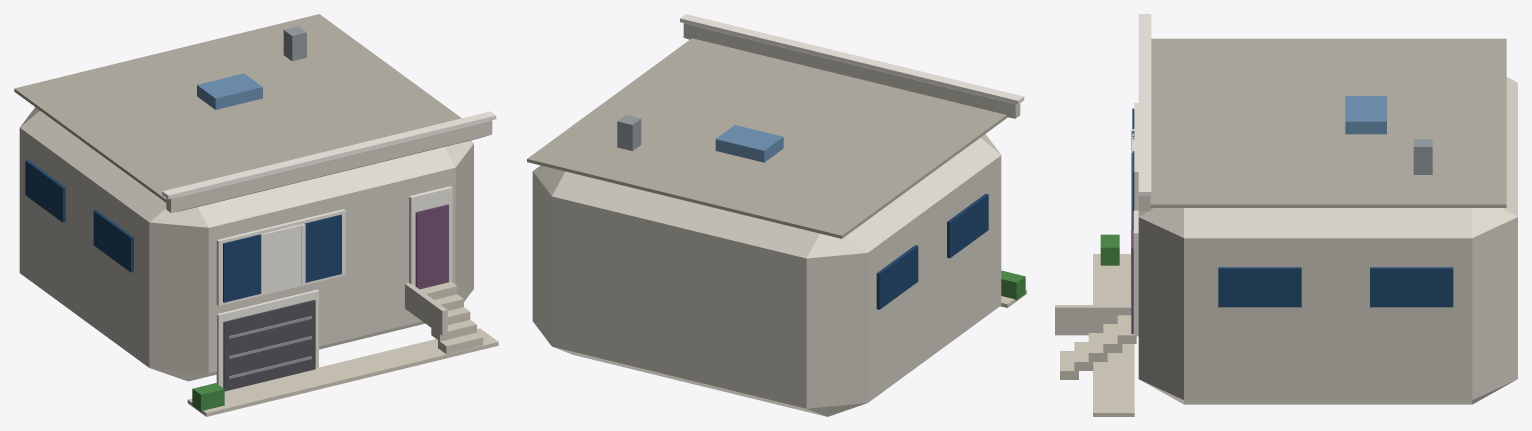
File: sunset_w11_plain_pic.glb
3 views of the same model, side by side, from view 1: azimuth 30°, elevation 25°; view 2: azimuth 150°, elevation 25°; view 3: azimuth 270°, elevation 25° (orthographic). The views are drawn at different scales.
Parts seen in each view (by area): view 1: walls, roofslab, gdoor, patio, pp1, pwin, pcap, door, pmull, gfr, pfr, skylt (+8 smaller); view 2: walls, roofslab, pp1, pcap, skylt, sb.002, sb, pipe, hedge; view 3: walls, roofslab, patio, sb.001, sb.003, pcap, srail, skylt, dfr, pipe, hedge, pfr (+5 smaller).
Boxes of the visible parts, x1=… form: walls: x1=19, y1=107, x2=473, y2=381; roofslab: x1=14, y1=14, x2=461, y2=202; gdoor: x1=223, y1=299, x2=315, y2=391; patio: x1=187, y1=328, x2=498, y2=416; pp1: x1=166, y1=120, x2=492, y2=212; pwin: x1=223, y1=214, x2=341, y2=302; pcap: x1=162, y1=111, x2=496, y2=199; door: x1=415, y1=204, x2=448, y2=289; pmull: x1=263, y1=224, x2=301, y2=292; gfr: x1=216, y1=289, x2=318, y2=387; pfr: x1=216, y1=209, x2=345, y2=306; skylt: x1=197, y1=73, x2=262, y2=109; walls: x1=532, y1=134, x2=1001, y2=416; roofslab: x1=527, y1=38, x2=1007, y2=238; pp1: x1=683, y1=23, x2=1020, y2=118; pcap: x1=680, y1=14, x2=1024, y2=104; skylt: x1=715, y1=125, x2=783, y2=162; sb.002: x1=876, y1=245, x2=918, y2=309; sb: x1=947, y1=193, x2=988, y2=258; pipe: x1=617, y1=115, x2=641, y2=150; hedge: x1=1001, y1=270, x2=1025, y2=300; walls: x1=1138, y1=77, x2=1517, y2=404; roofslab: x1=1150, y1=38, x2=1506, y2=207; patio: x1=1093, y1=254, x2=1134, y2=416; sb.001: x1=1218, y1=267, x2=1301, y2=307; sb.003: x1=1370, y1=267, x2=1453, y2=307; pcap: x1=1138, y1=14, x2=1151, y2=196; srail: x1=1055, y1=305, x2=1131, y2=335; skylt: x1=1345, y1=96, x2=1386, y2=134; dfr: x1=1133, y1=210, x2=1138, y2=336; pipe: x1=1413, y1=139, x2=1432, y2=174; hedge: x1=1100, y1=234, x2=1119, y2=265; pfr: x1=1134, y1=103, x2=1138, y2=210.
Bounding box in the file's own units: 11.2 × 7.1 × 12.2.
